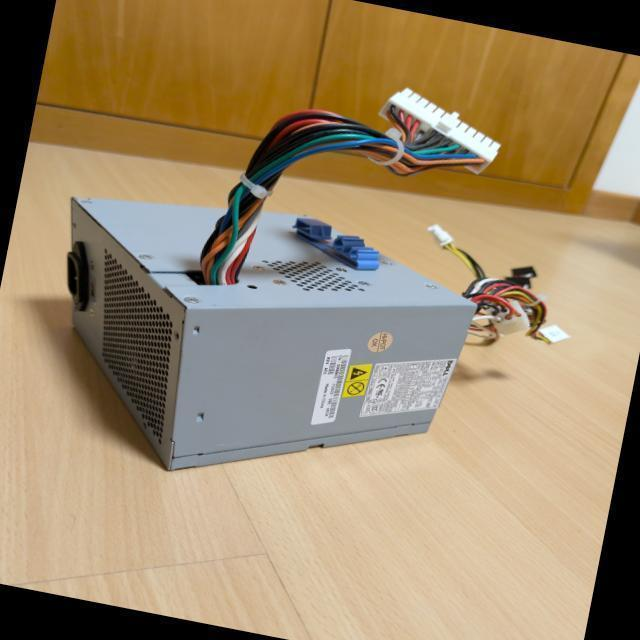PSU: (23, 168, 490, 524)
